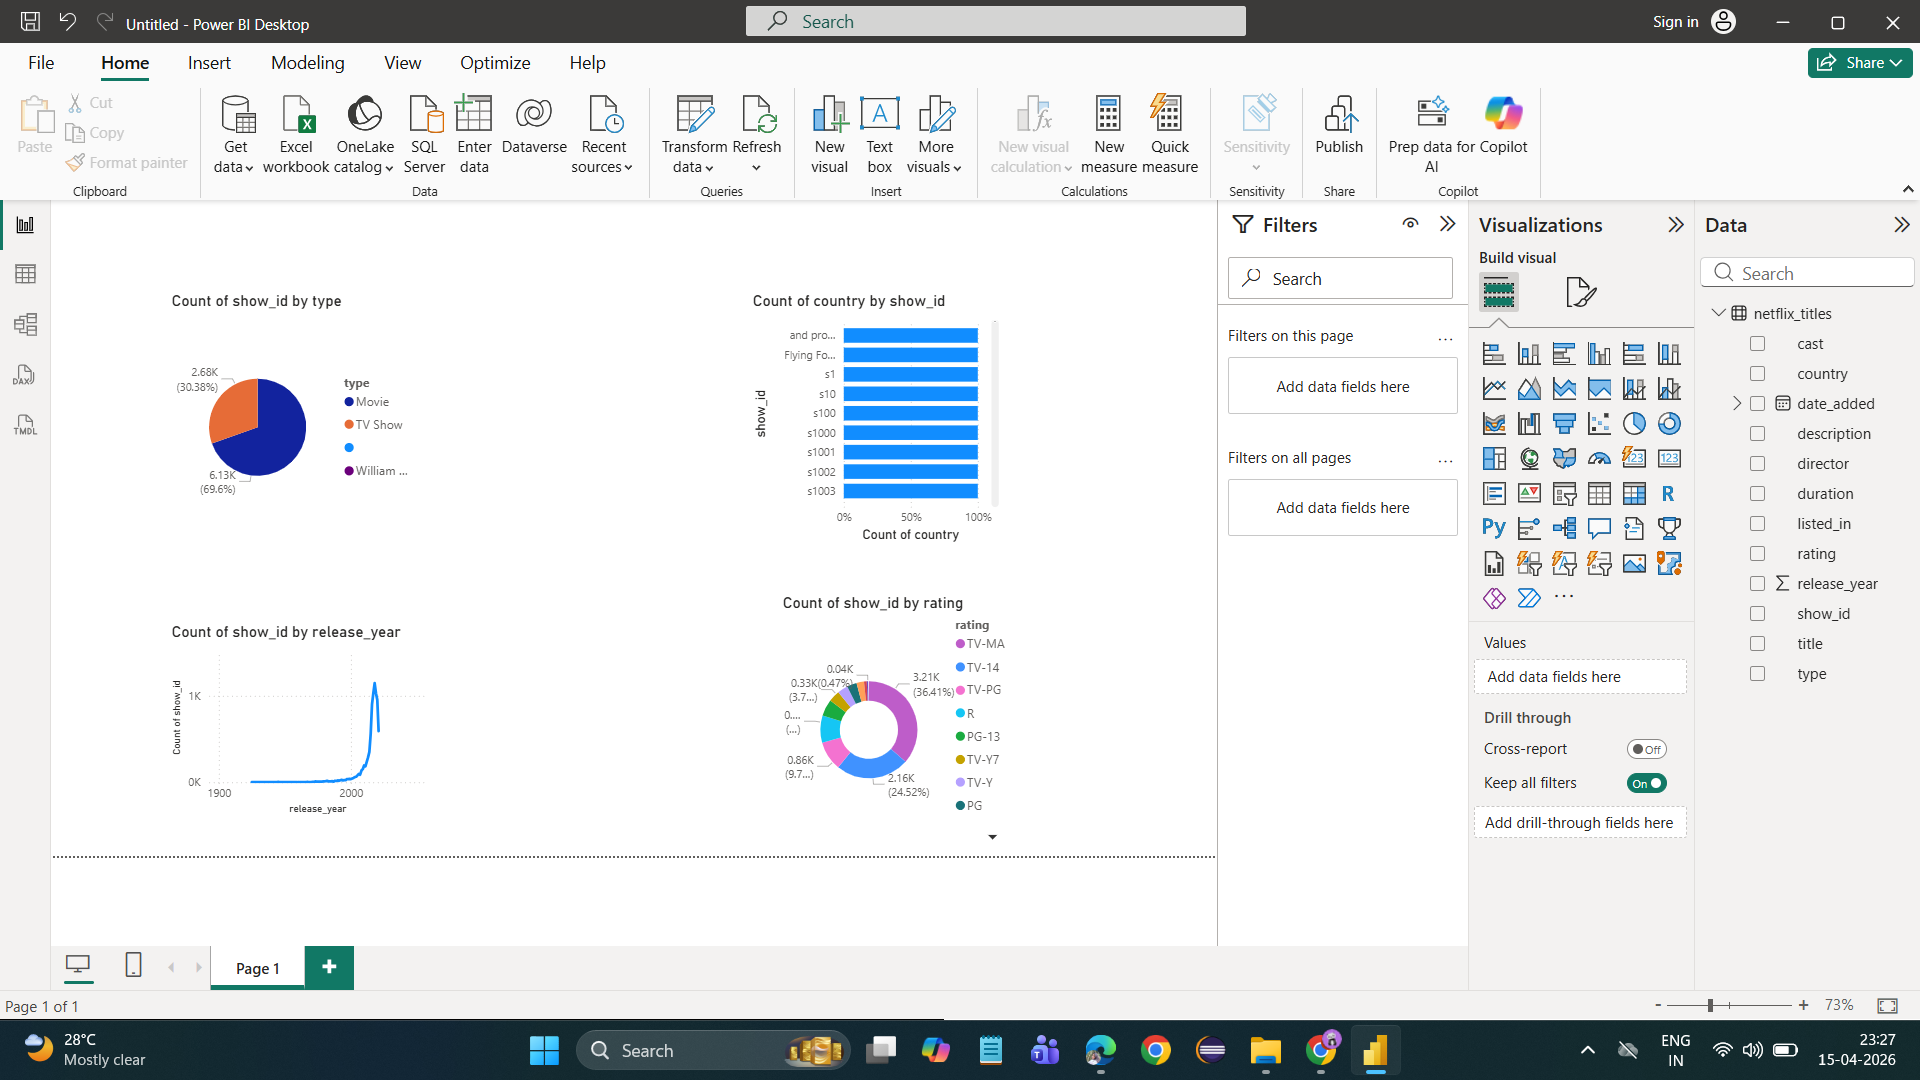

Layout of this report page (visuals, bound fields, positions):
{"tool":"powerbi","page":{"name":"Page 1","canvas":[1280,720],"ordinal":0},"visuals":[{"type":"pieChart","fields":{"Category":["netflix_titles.type"],"Y":["CountNonNull(netflix_titles.show_id)"]},"box":[127.6,100.2,279.9,279.9],"z":0},{"type":"hundredPercentStackedBarChart","fields":{"Y":["CountNonNull(netflix_titles.country)"],"Category":["netflix_titles.show_id"]},"box":[765.7,100.2,279.9,279.9],"z":1},{"type":"lineChart","fields":{"Category":["netflix_titles.release_year"],"Y":["CountNonNull(netflix_titles.show_id)"]},"box":[127.6,463.8,292.3,215.4],"z":2},{"type":"donutChart","fields":{"Category":["netflix_titles.rating"],"Y":["CountNonNull(netflix_titles.show_id)"]},"box":[798.6,432.2,279.9,279.9],"z":3}]}

Visuals, with their boxes on the page's 1280x720 design canvas (x1, y1, x2, y2). These are canvas units, not pixel positions in the 1920x1080 screenshot, which may show the page scaled, cropped or inside an application window:
pieChart - netflix_titles.type x CountNonNull(netflix_titles.show_id): [x1=128, y1=100, x2=408, y2=380]
hundredPercentStackedBarChart - CountNonNull(netflix_titles.country) x netflix_titles.show_id: [x1=766, y1=100, x2=1046, y2=380]
lineChart - netflix_titles.release_year x CountNonNull(netflix_titles.show_id): [x1=128, y1=464, x2=420, y2=679]
donutChart - netflix_titles.rating x CountNonNull(netflix_titles.show_id): [x1=799, y1=432, x2=1078, y2=712]
